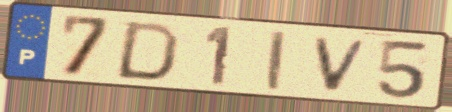1: (202, 25, 234, 89)
5: (374, 38, 432, 102)
7: (59, 12, 115, 79)
D: (112, 19, 184, 83)
I: (265, 28, 288, 93)
V: (312, 35, 374, 94)
